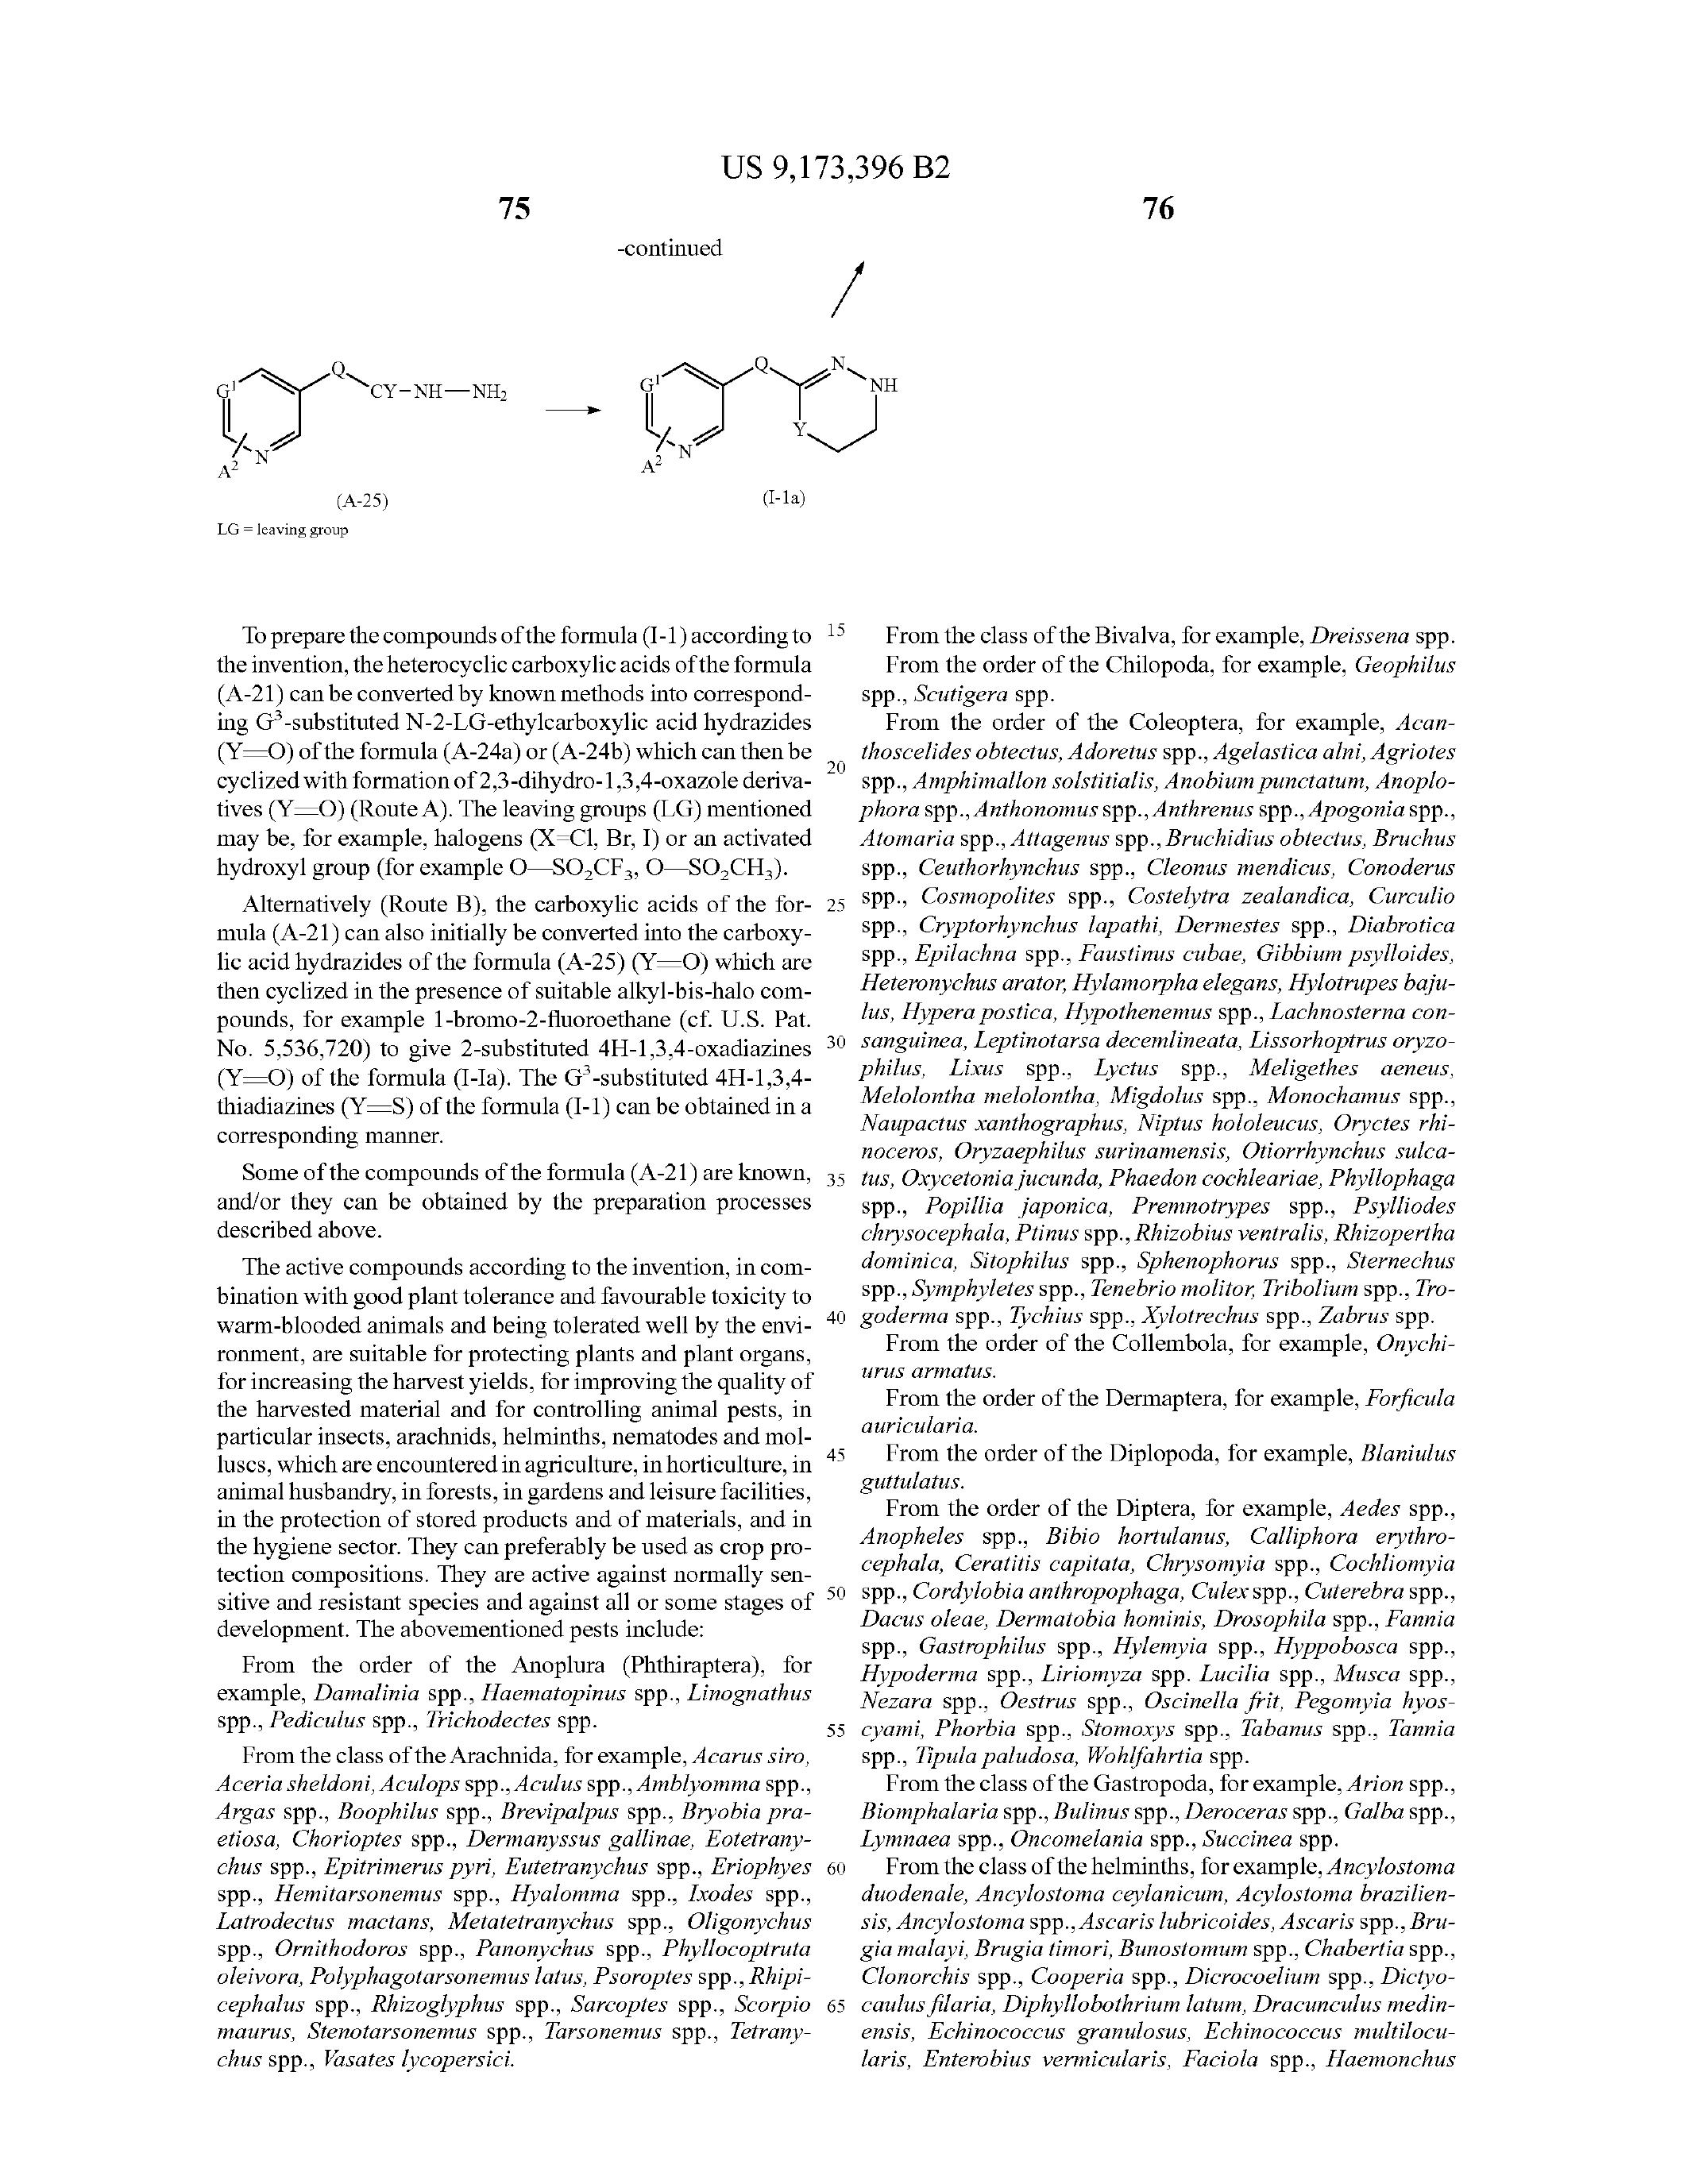reactions: (122, 204, 933, 548)
